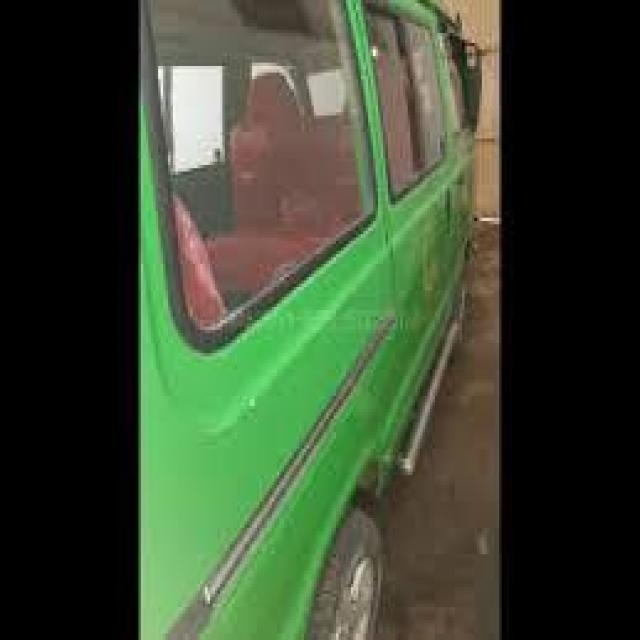Van: (138, 0, 482, 640)
